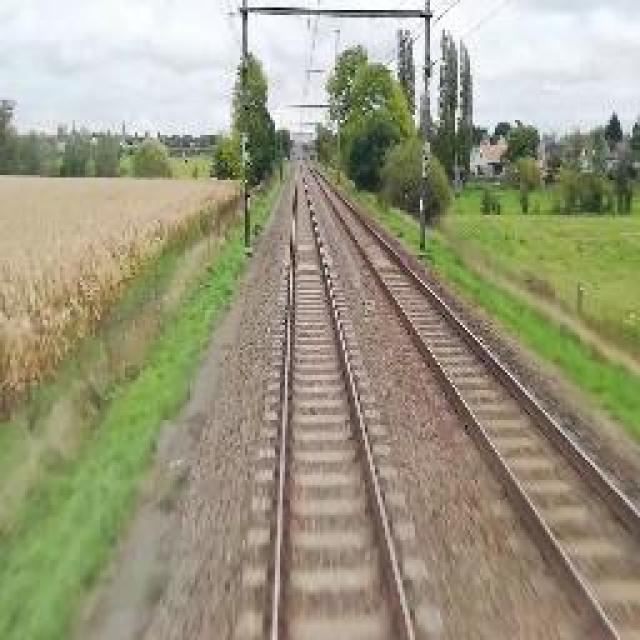rail: (238, 162, 455, 640)
